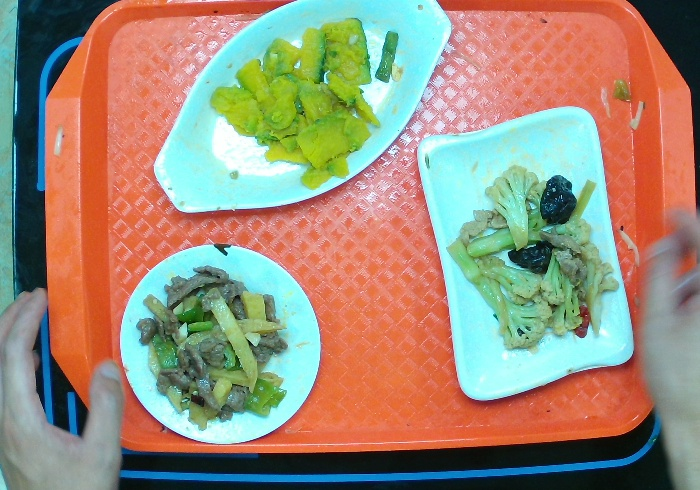RJxy-Si_Fang_Ao_Bian_Wan: (416, 101, 641, 409)
RJxy-Xiao_Yuan_Die: (108, 244, 327, 450)
RJxy-Yu_Pan: (149, 1, 460, 211)
